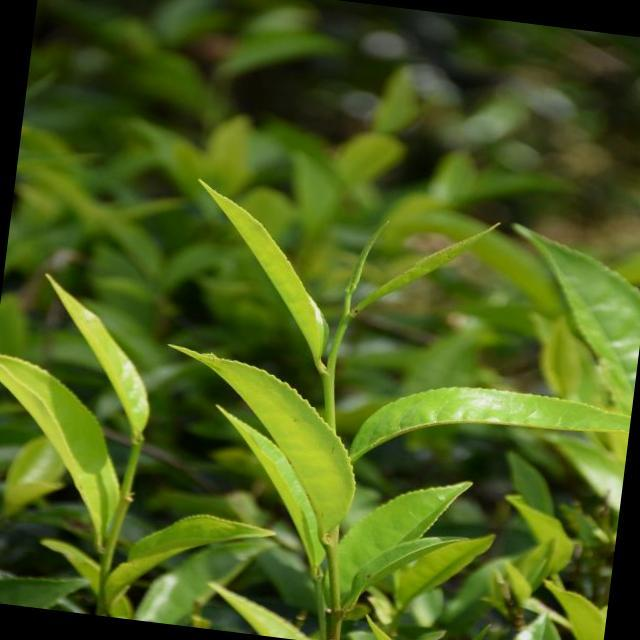Stem: (323, 368, 334, 382)
